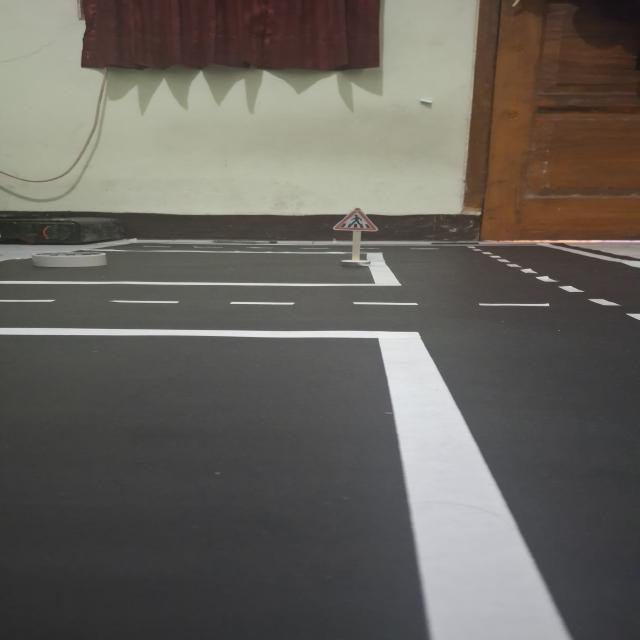Rambu Penyebrangan: (334, 208, 378, 231)
